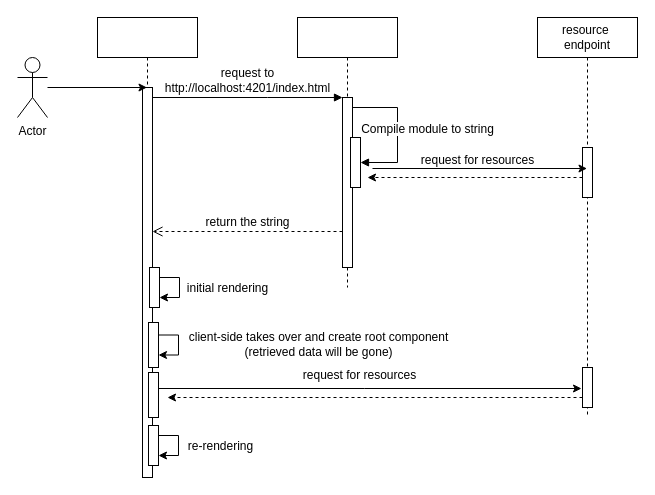
This 655x495 diagram has some shape labels left out. Each missing label, with the centre of its shape:
Browser: (147,247)
web page endpoint: (347,152)
